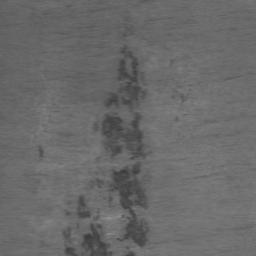Iron scale compression: (104, 162, 148, 246), (105, 46, 142, 112), (103, 115, 146, 158), (64, 224, 115, 254), (77, 197, 89, 218), (91, 121, 98, 134), (38, 147, 44, 158)
